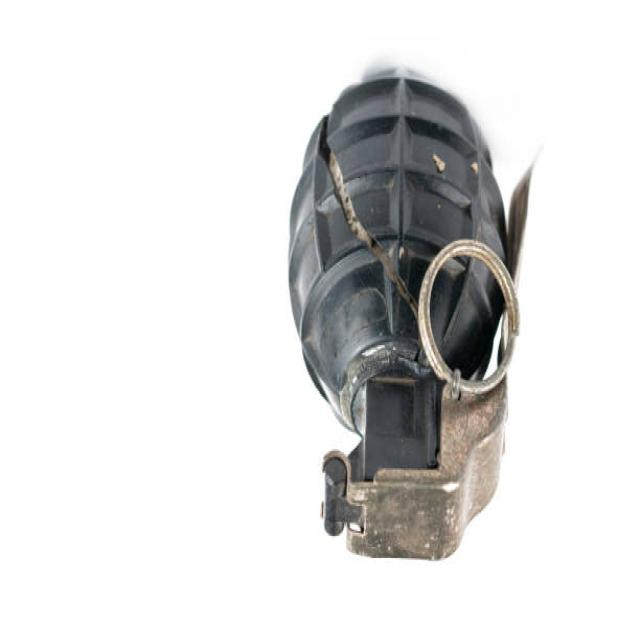grenade: (287, 62, 552, 577)
